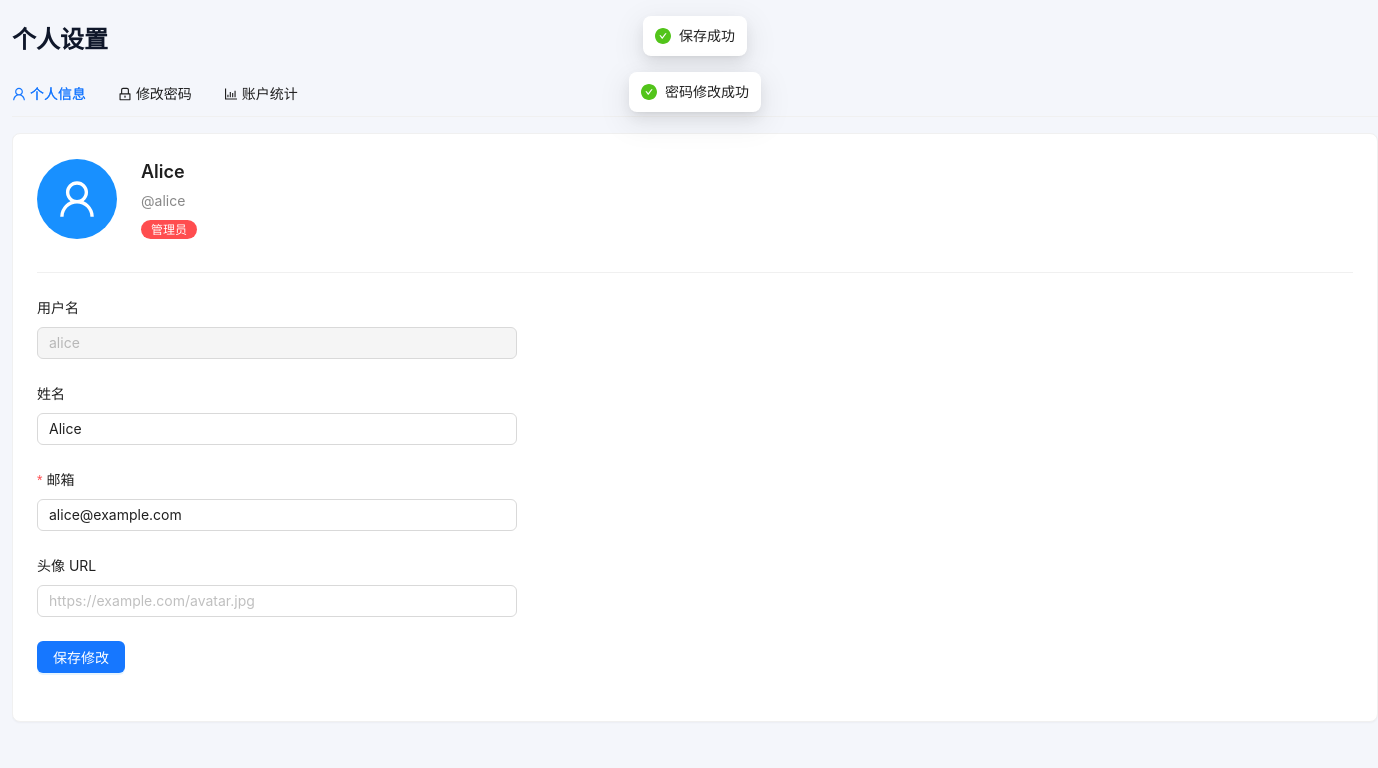
ProfilePage › 账户统计标签展示各维度统计
Click the tab "账户统计". click: [261, 94]
box: [224,83,298,105]
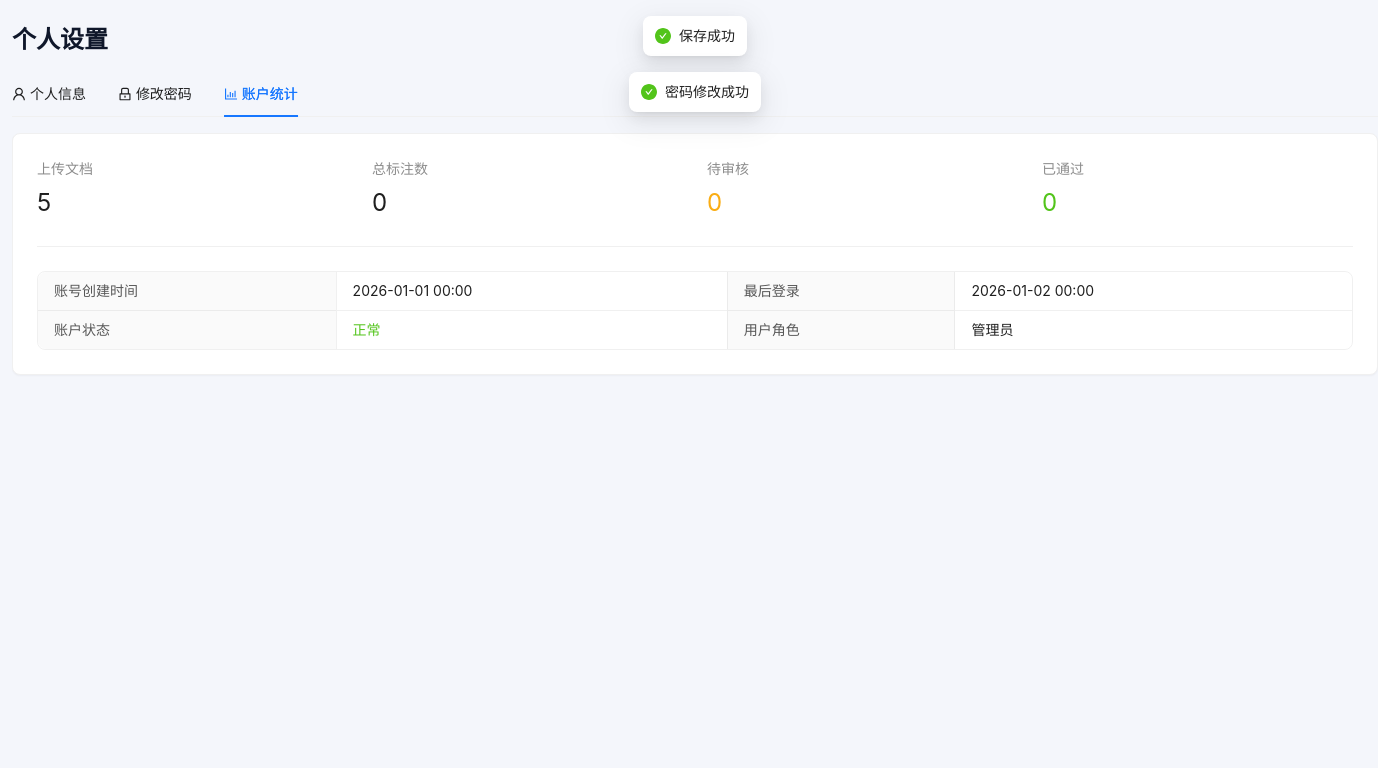
Result: the text "上传文档" is shown at [37,160,93,177]
Result: the text "总标注数" is shown at [372,160,428,177]
Result: the text "待审核" is shown at [707,160,749,177]
